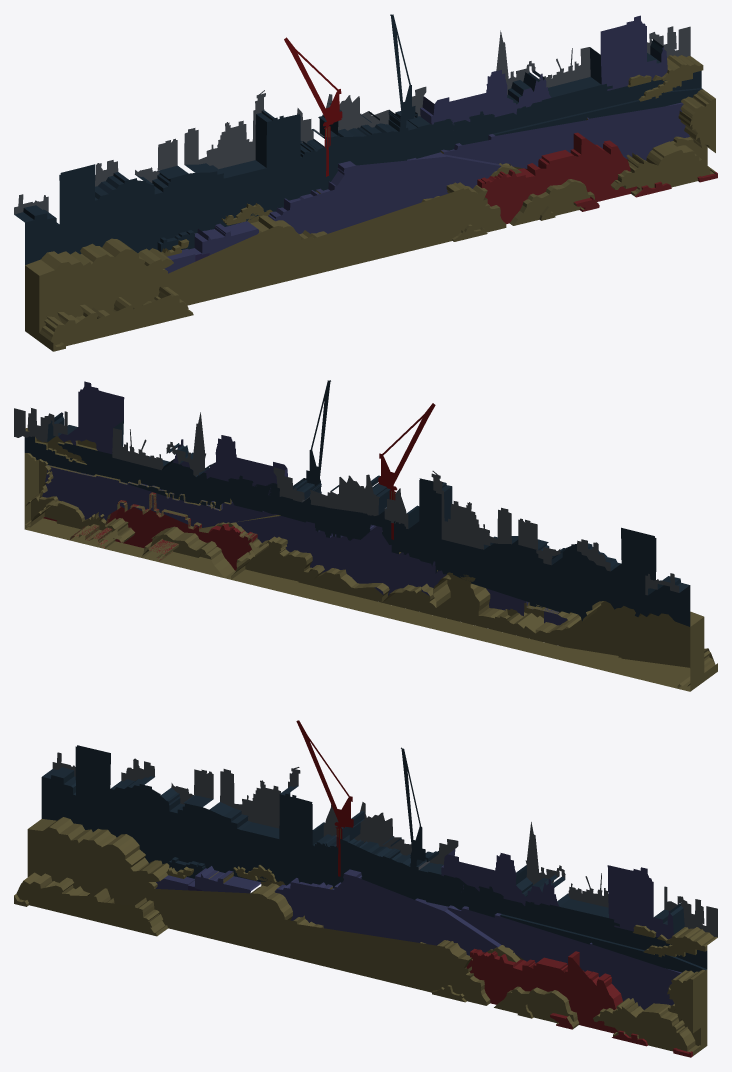
The model's file is FarAwayBuildingsConcept1.fbx.
3 renders of one model, top to bottom at view 1: azimuth 30°, elevation 25°; view 2: azimuth 150°, elevation 25°; view 3: azimuth 330°, elevation 25°, orthographic.
Parts seen in each view (by area): view 1: far_away_buildings-transformed; view 2: far_away_buildings-transformed; view 3: far_away_buildings-transformed.
Boxes of the visible parts, box(x1,y1,x2,y2) form: far_away_buildings-transformed: box(14, 14, 717, 351); far_away_buildings-transformed: box(14, 380, 717, 691); far_away_buildings-transformed: box(14, 720, 717, 1057).
Bounding box in the file's own units: 136 × 44.12 × 13.64.
